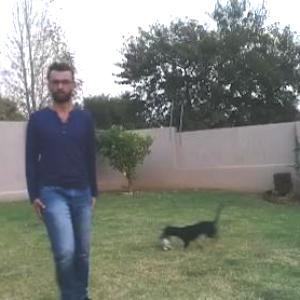follow: (26, 59, 101, 299)
